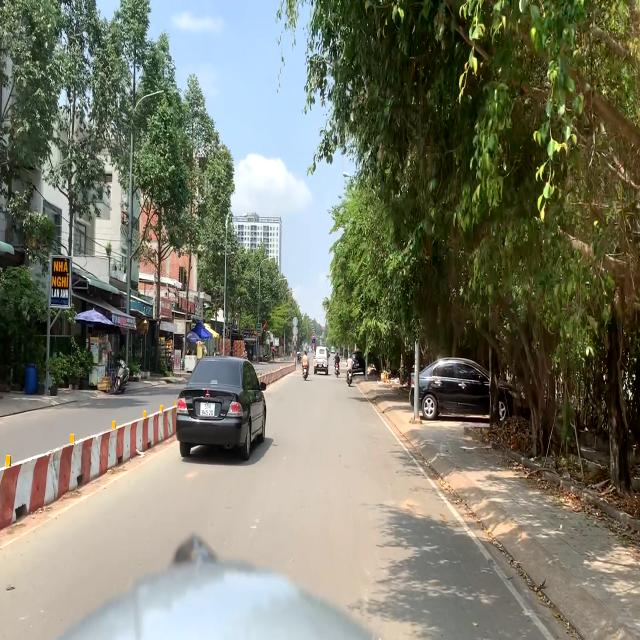27: (312, 339, 315, 343)
bien_chi_dan: (312, 334, 315, 339)
